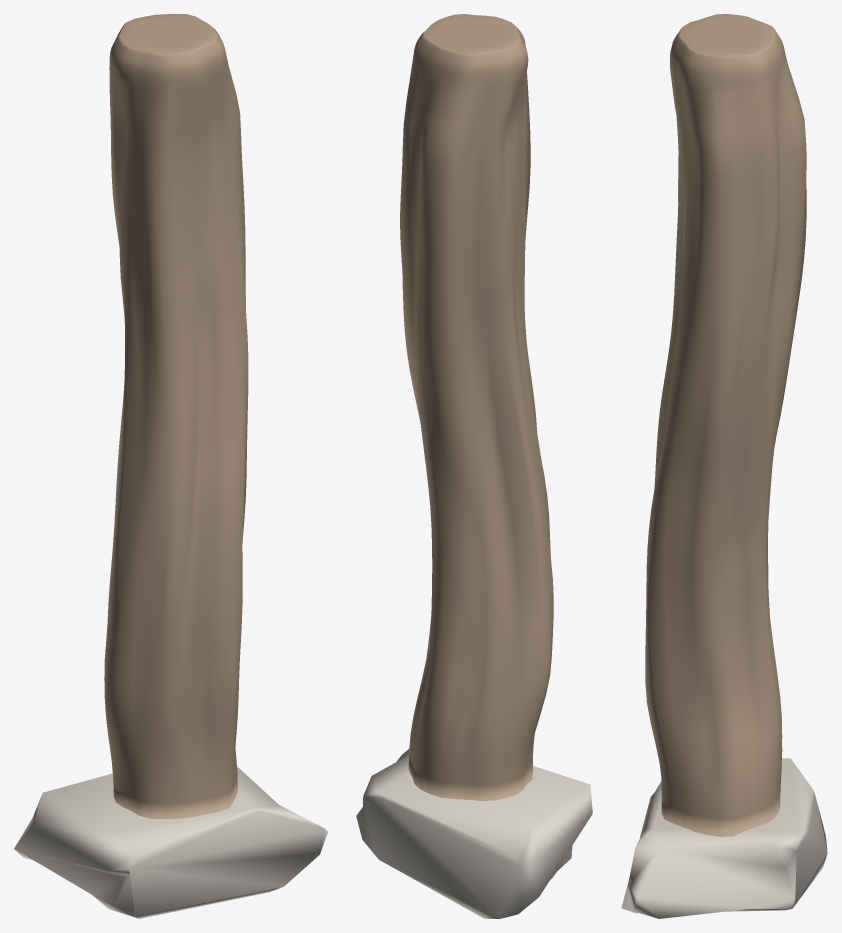
File: bagana-f2-3x9x3-v2.glb
3 views of the same model, side by side, from view 1: azimuth 30°, elevation 25°; view 2: azimuth 150°, elevation 25°; view 3: azimuth 270°, elevation 25° (orthographic). The views are drawn at different scales.
Visible parts, largest first — view 1: bagana_wood, bagana_stone; view 2: bagana_wood, bagana_stone; view 3: bagana_wood, bagana_stone.
Part boxes in pixels (x1,y1,x2,y2): bagana_wood: (104,14,248,818); bagana_stone: (14,766,327,918); bagana_wood: (400,14,553,800); bagana_stone: (356,749,592,918); bagana_wood: (645,14,806,836); bagana_stone: (621,758,827,918).
Size of the model in its own units: 0.6304 by 2.26 by 0.4895.
